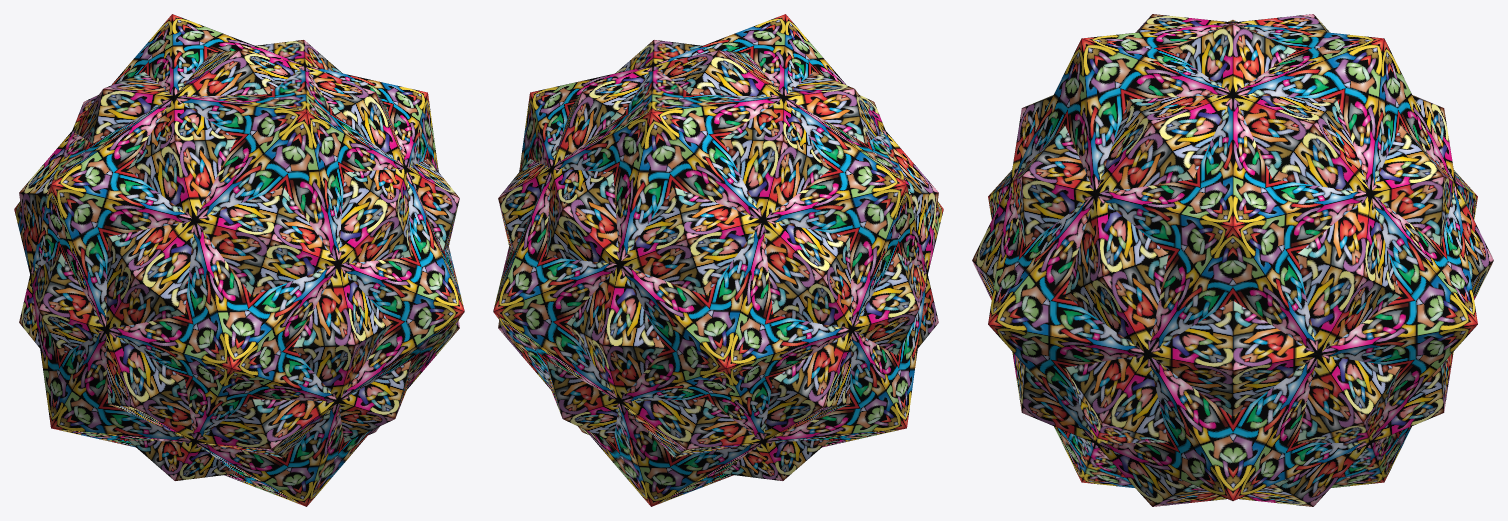
File: 33MedialDeltoidalHexecontahedron.obj
The picture shows the model from 3 angles, left to right: view 1: azimuth 30°, elevation 25°; view 2: azimuth 150°, elevation 25°; view 3: azimuth 270°, elevation 25°; orthographic projection. The views are drawn at different scales.
Size of the model in its own units: 2.68 by 2.68 by 2.68.
1 material, 1 textured.
